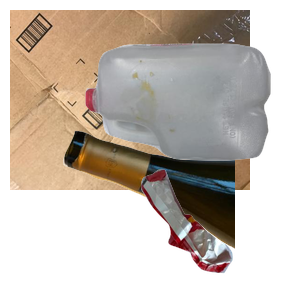cardboard: (10, 10, 250, 190)
glass: (60, 128, 300, 300)
plastic: (83, 41, 300, 194)
trash: (139, 167, 300, 300)
